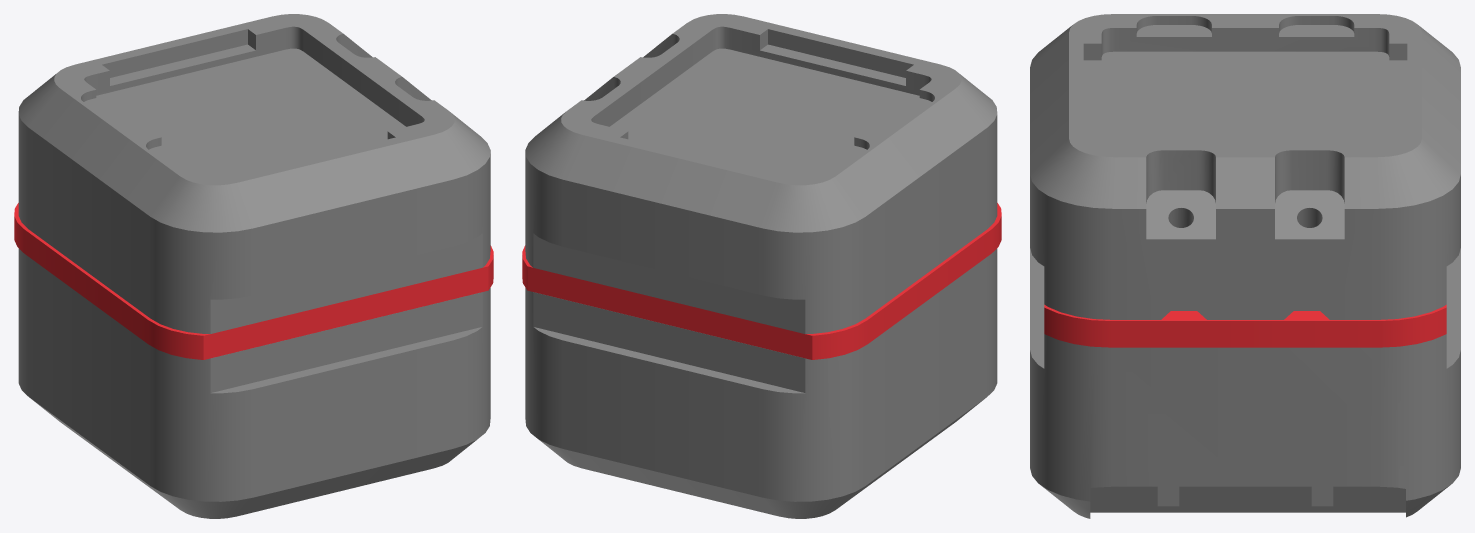
File: Bomb4.glb
3 renders of one model, left to right at view 1: azimuth 30°, elevation 25°; view 2: azimuth 150°, elevation 25°; view 3: azimuth 270°, elevation 25°, orthographic. The views are drawn at different scales.
Parts seen in each view (by area): view 1: CUBE, Cube.002; view 2: CUBE, Cube.002; view 3: CUBE, Cube.002.
Part boxes in pixels (x1,y1,x2,y2): CUBE: [18, 14, 490, 518]; Cube.002: [14, 203, 493, 359]; CUBE: [525, 14, 997, 518]; Cube.002: [522, 203, 1001, 359]; CUBE: [1030, 14, 1460, 518]; Cube.002: [1044, 304, 1446, 347].
Bounding box in the file's own units: 2.68 × 2.55 × 2.73.
